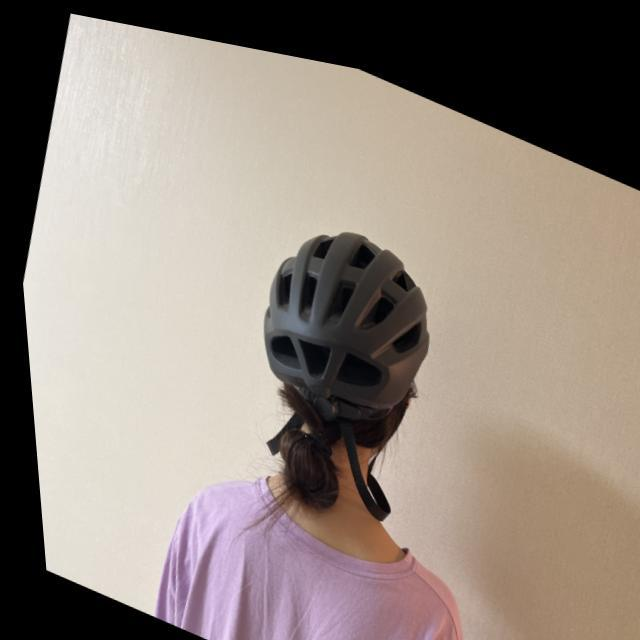Helmet: (260, 228, 431, 511)
